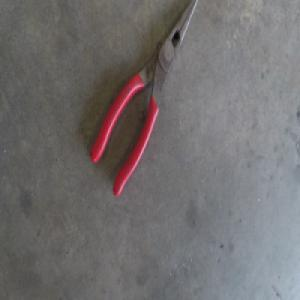Pliers: (90, 1, 199, 196)
